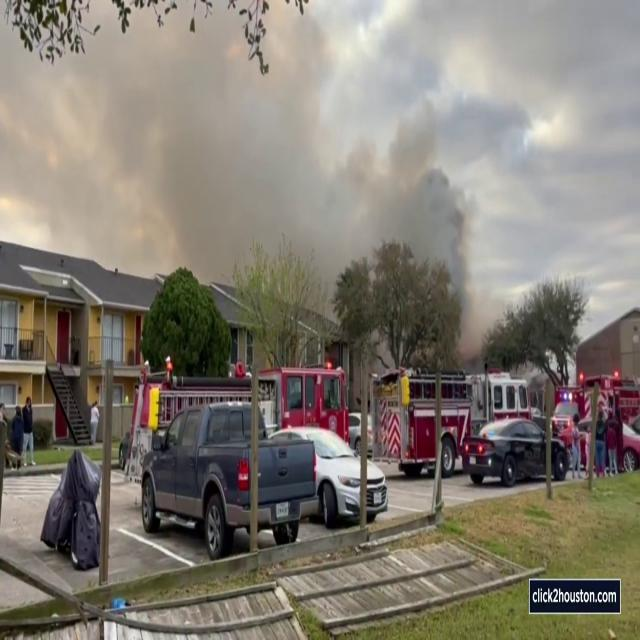Smoke: (2, 2, 334, 258), (338, 84, 493, 374)
